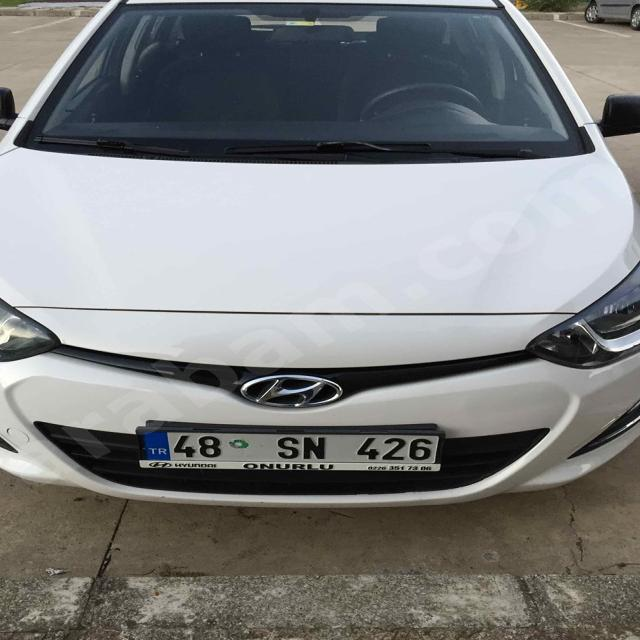license_plate: (139, 430, 440, 464)
